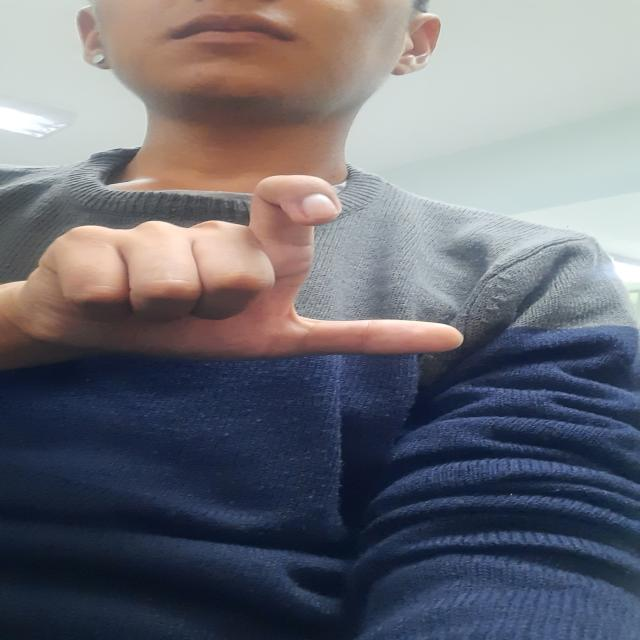G: (0, 168, 498, 362)
